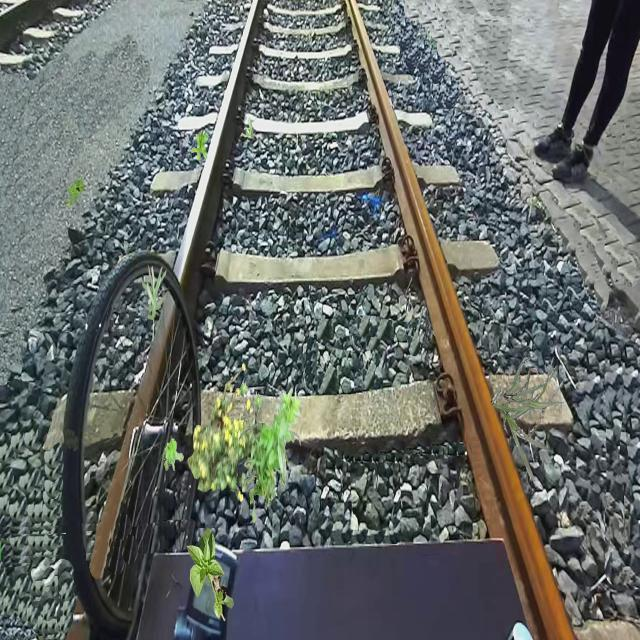Plant: (187, 363, 262, 503), (239, 380, 304, 524), (491, 357, 564, 482), (186, 527, 234, 622), (142, 264, 168, 321), (163, 438, 183, 471), (66, 176, 86, 208), (191, 130, 208, 162), (242, 117, 256, 138)
